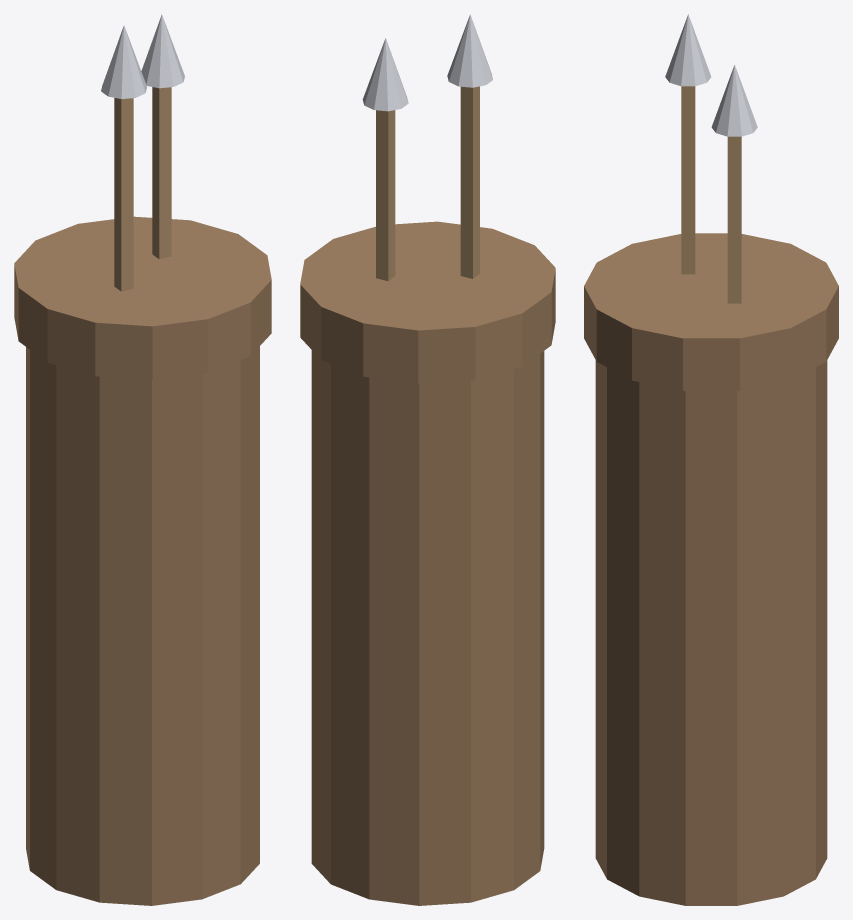
File: quiver.glb
3 views of the same model, side by side, from view 1: azimuth 30°, elevation 25°; view 2: azimuth 150°, elevation 25°; view 3: azimuth 270°, elevation 25° (orthographic). The views are drawn at different scales.
Parts seen in each view (by area): view 1: quiver; view 2: quiver; view 3: quiver.
Boxes of the visible parts, <box> form: quiver: <box>14,14,271,905</box>; quiver: <box>300,14,555,905</box>; quiver: <box>584,14,838,905</box>.
Size of the model in its own units: 0.2145 by 0.79 by 0.22.
